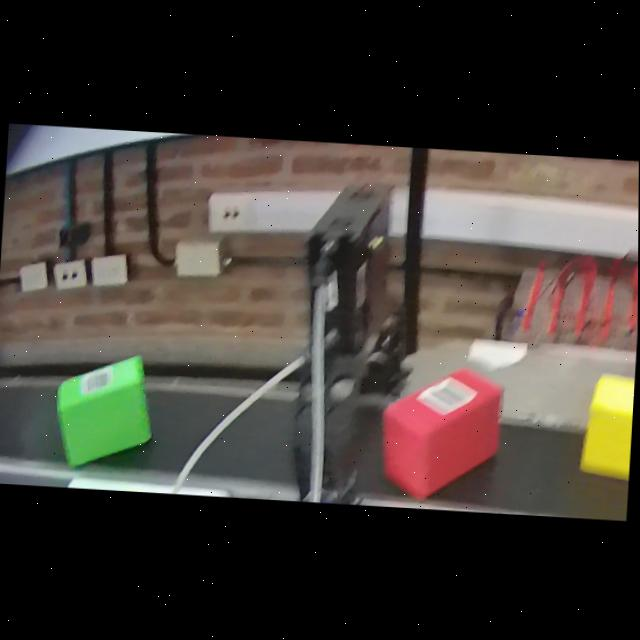greenBox: (37, 349, 174, 477)
redBox: (375, 360, 503, 504)
yellowBox: (573, 359, 636, 494)
